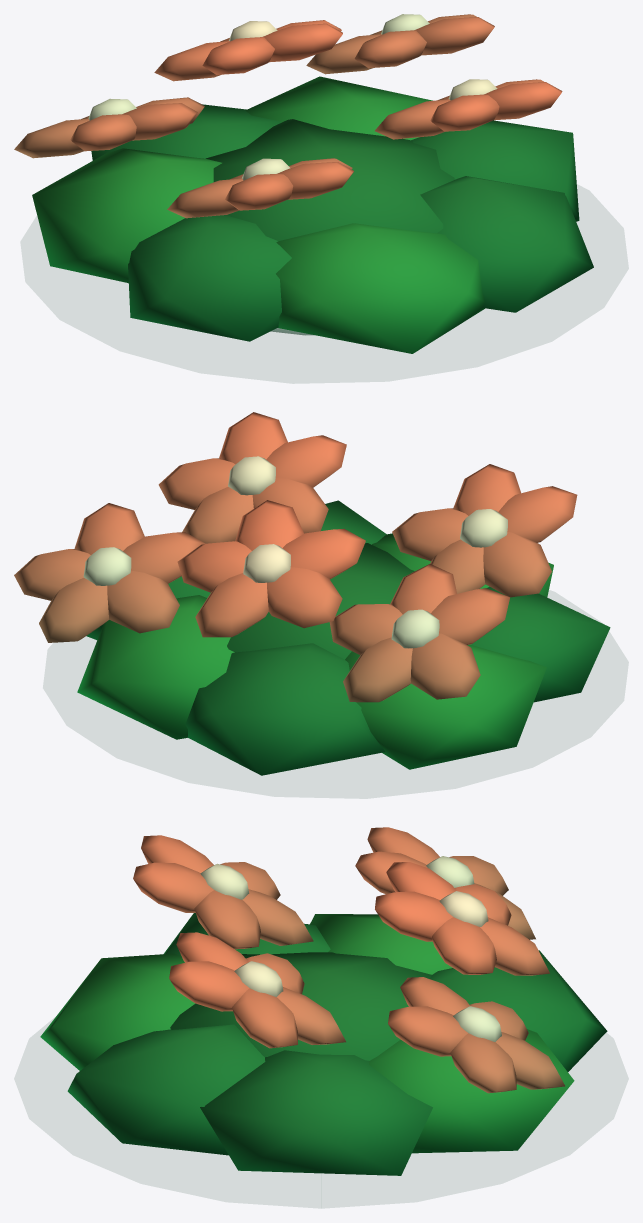
Rendered from flowers.glb.
3 renders of one model, top to bottom at view 1: azimuth 30°, elevation 25°; view 2: azimuth 150°, elevation 25°; view 3: azimuth 270°, elevation 25°, orthographic. The views are drawn at different scales.
Visible parts, largest first — view 1: flowers; view 2: flowers; view 3: flowers.
Part boxes in pixels (x1,y1,x2,y2): flowers: (14,14,593,353); flowers: (14,412,610,775); flowers: (40,827,607,1207).
Bounding box in the file's own units: 0.9 × 0.3525 × 0.9.
